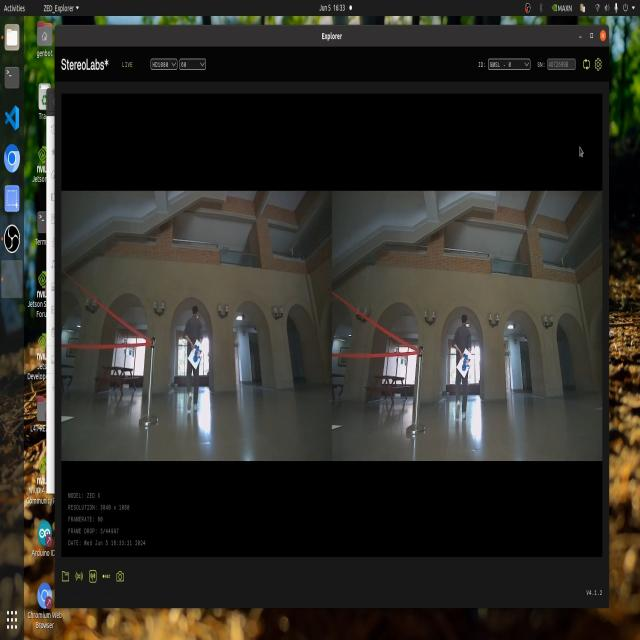blue: (191, 340, 206, 367), (459, 352, 470, 378)
